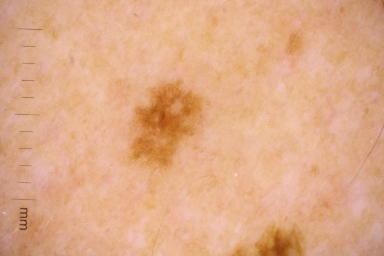melanoma: (130, 84, 204, 170), (234, 222, 301, 256)
